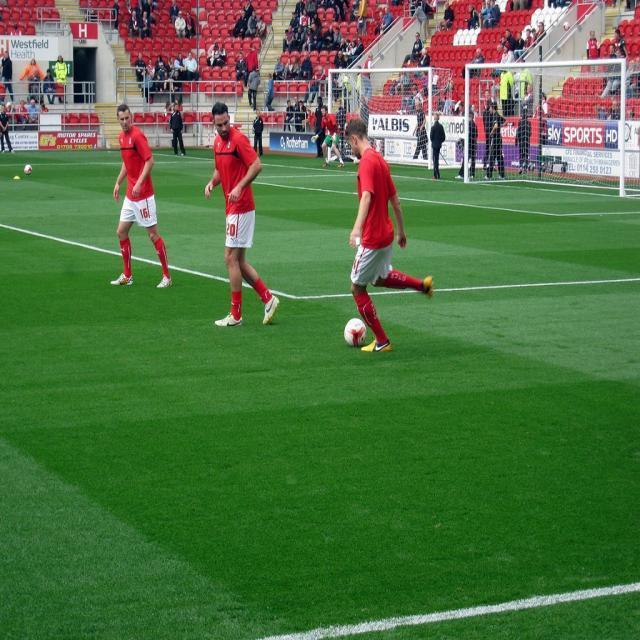football: (331, 313, 379, 357)
